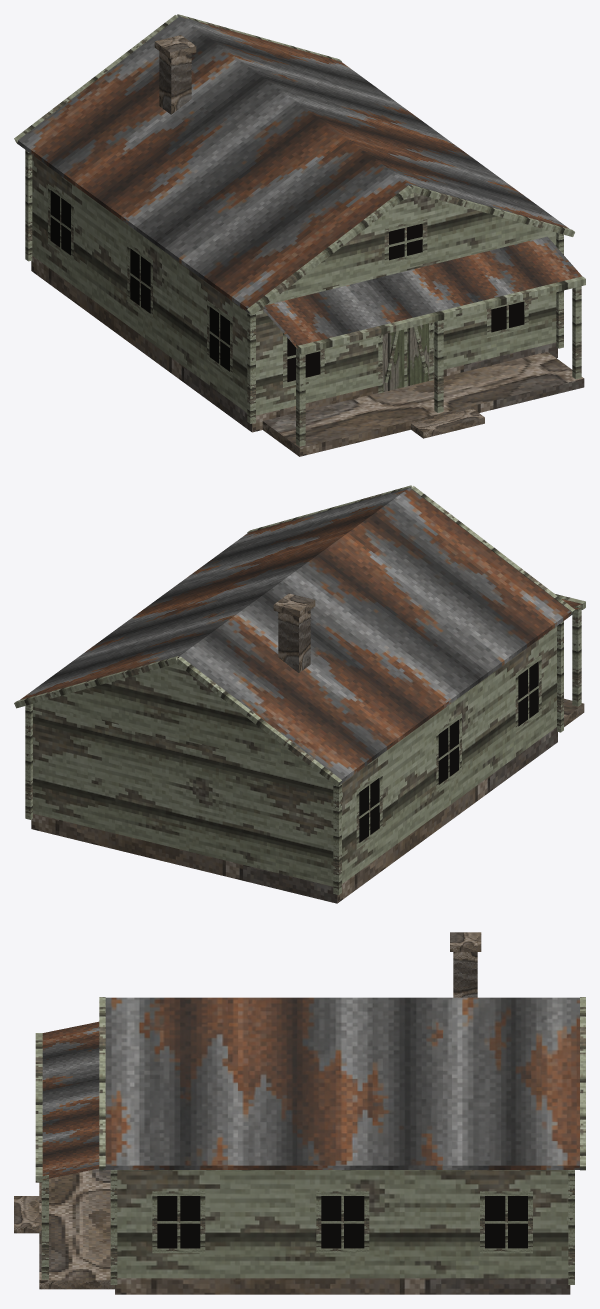
File: Casa_03_Abbandonata_Salvia.obj
3 views of the same model, one above another, from view 1: azimuth 30°, elevation 25°; view 2: azimuth 150°, elevation 25°; view 3: azimuth 270°, elevation 25° (orthographic). The views are drawn at different scales.
Visible parts, largest first — view 1: Casa_03_Abbandonata_Salvia; view 2: Casa_03_Abbandonata_Salvia; view 3: Casa_03_Abbandonata_Salvia.
Part boxes in pixels (bbox=[...]): Casa_03_Abbandonata_Salvia: bbox=[14, 14, 585, 456]; Casa_03_Abbandonata_Salvia: bbox=[14, 485, 585, 903]; Casa_03_Abbandonata_Salvia: bbox=[14, 932, 585, 1294].
Size of the model in its own units: 7.65 by 5.43 by 11.31.
